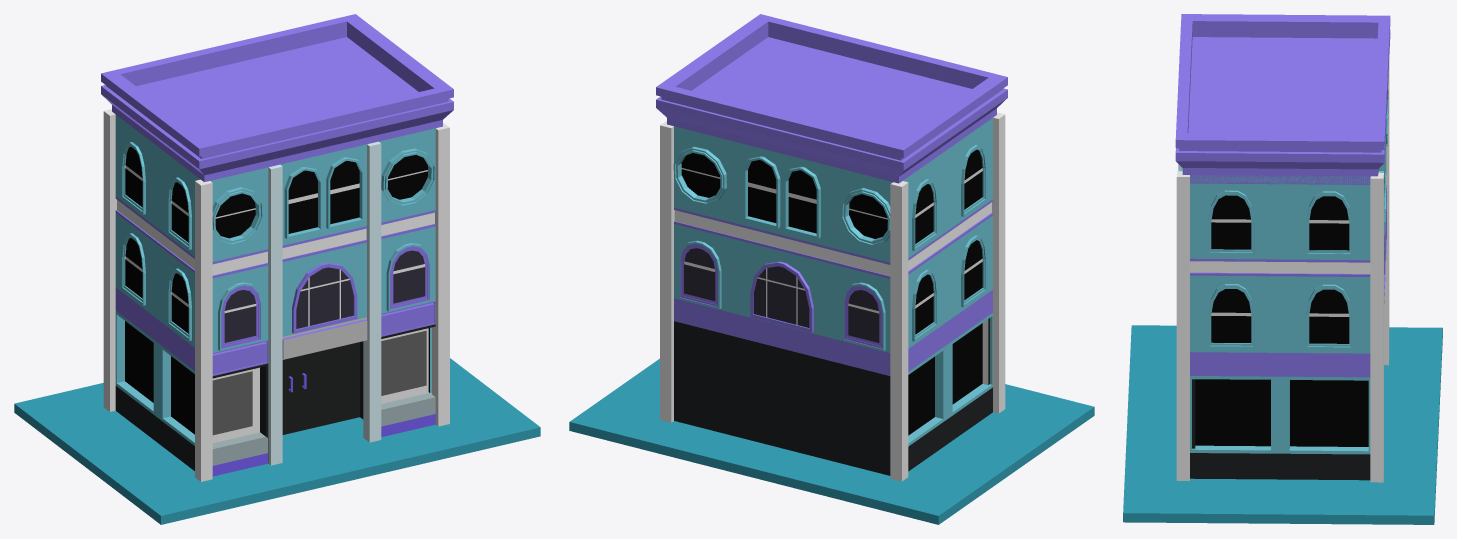
The model's file is mid2.glb.
3 views of the same model, side by side, from view 1: azimuth 30°, elevation 25°; view 2: azimuth 150°, elevation 25°; view 3: azimuth 270°, elevation 25° (orthographic). The views are drawn at different scales.
Parts seen in each view (by area): view 1: Commercial 7; view 2: Commercial 7; view 3: Commercial 7.
Boxes of the visible parts, x1,y1,x2,y2 form: Commercial 7: [14, 14, 540, 524]; Commercial 7: [569, 14, 1094, 524]; Commercial 7: [1123, 14, 1442, 524].
Size of the model in its own units: 15.67 by 13.5 by 11.12.
Materials: 1 (1 with a texture image).
